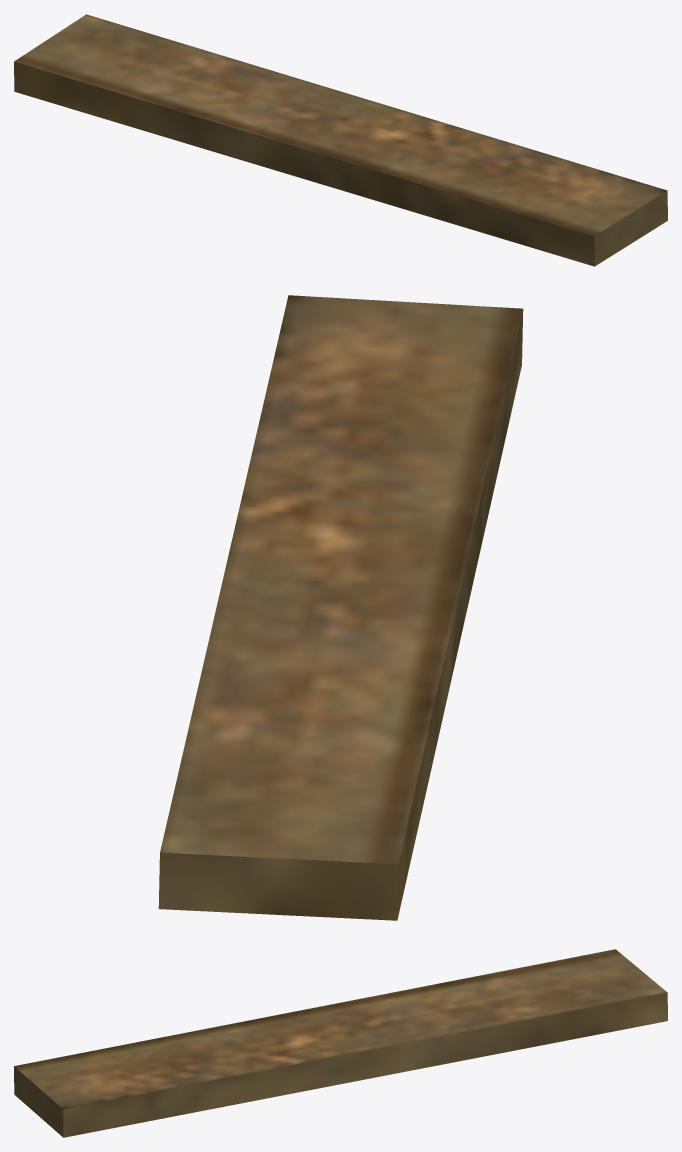
File: WoodDecor01.glb
3 views of the same model, one above another, from view 1: azimuth 30°, elevation 25°; view 2: azimuth 150°, elevation 25°; view 3: azimuth 270°, elevation 25° (orthographic). The views are drawn at different scales.
Parts seen in each view (by area): view 1: WoodDecor01; view 2: WoodDecor01; view 3: WoodDecor01.
Part boxes in pixels (x1,y1,x2,y2): WoodDecor01: (14, 14, 667, 266); WoodDecor01: (158, 295, 523, 920); WoodDecor01: (14, 949, 667, 1137).
Size of what is drawn, in the model's own units: 0.6144 by 0.0548 by 1.05.
1 material, 1 textured.
